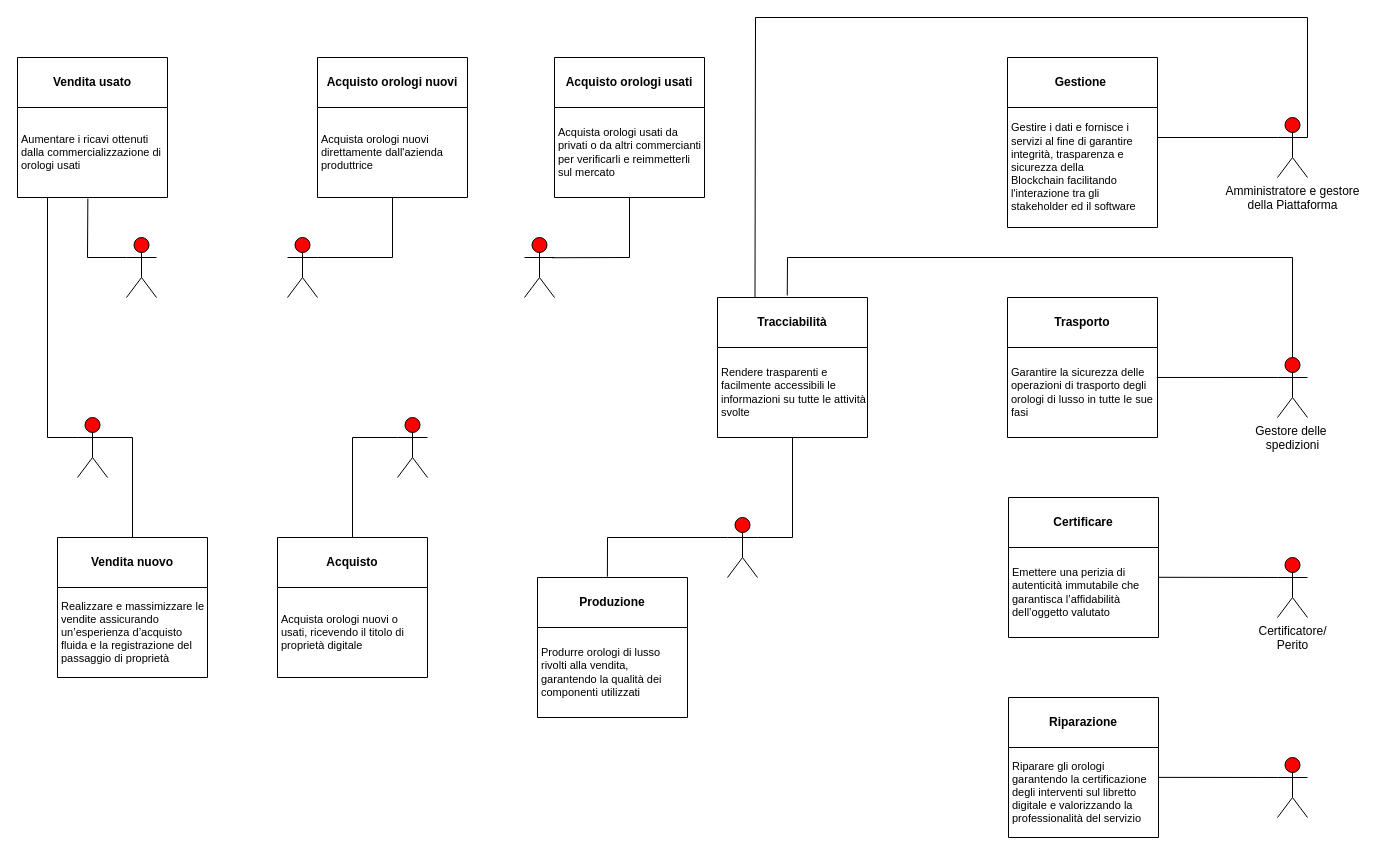
Some shapes in this 1377 by 856 pixel diagram are drawn without their labels. Here are the shapes that lost their labels. From the top down, the centre of each, then its label:
At (x=141, y=267): "Venditore privato".
At (x=302, y=267): "Acquirente di orologi nuovi".
At (x=539, y=267): "Acquirente di orologi usati".
At (x=92, y=447): "Rivenditore".
At (x=412, y=447): "Acquirente".
At (x=742, y=547): "Produttore".
At (x=1292, y=787): "Manutentore".
